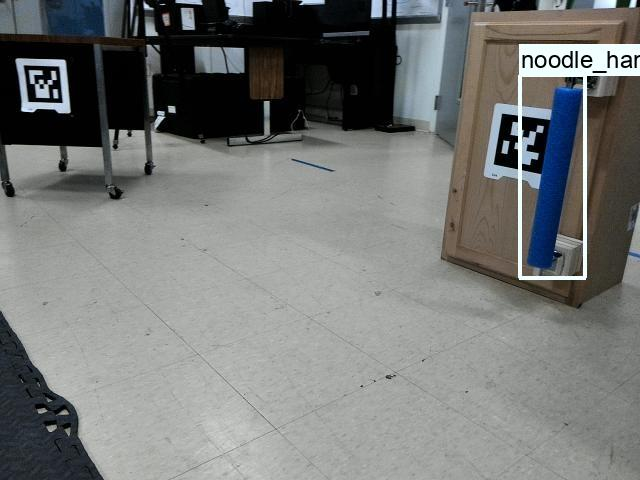noodle_handle: (524, 70, 586, 284)
